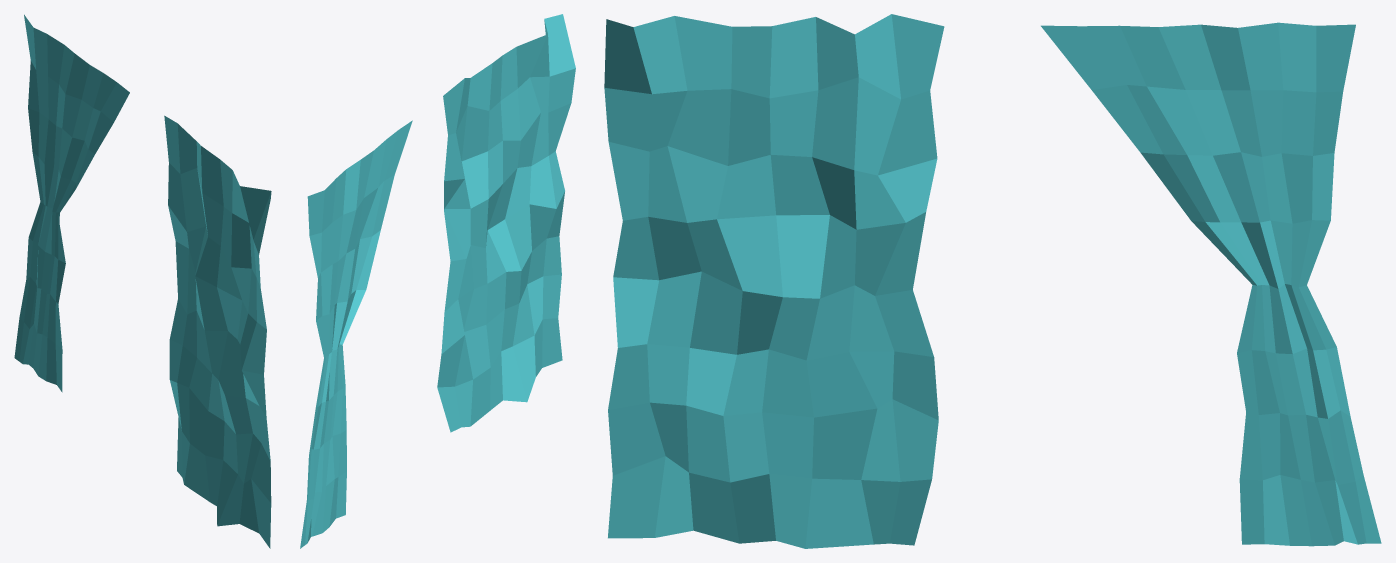
The model's file is Curtains.fbx.
3 views of the same model, side by side, from view 1: azimuth 30°, elevation 25°; view 2: azimuth 150°, elevation 25°; view 3: azimuth 270°, elevation 25° (orthographic). The views are drawn at different scales.
Parts seen in each view (by area): view 1: Plane.003, Plane.004; view 2: Plane.003, Plane.004; view 3: Plane.003, Plane.004.
Part boxes in pixels (<box>): Plane.003: <box>164,115,271,548</box>; Plane.004: <box>14,14,129,392</box>; Plane.003: <box>437,14,575,432</box>; Plane.004: <box>300,120,412,548</box>; Plane.003: <box>604,14,944,548</box>; Plane.004: <box>1041,22,1381,546</box>.
Bounding box in the file's own units: 19.47 × 214 × 280.
